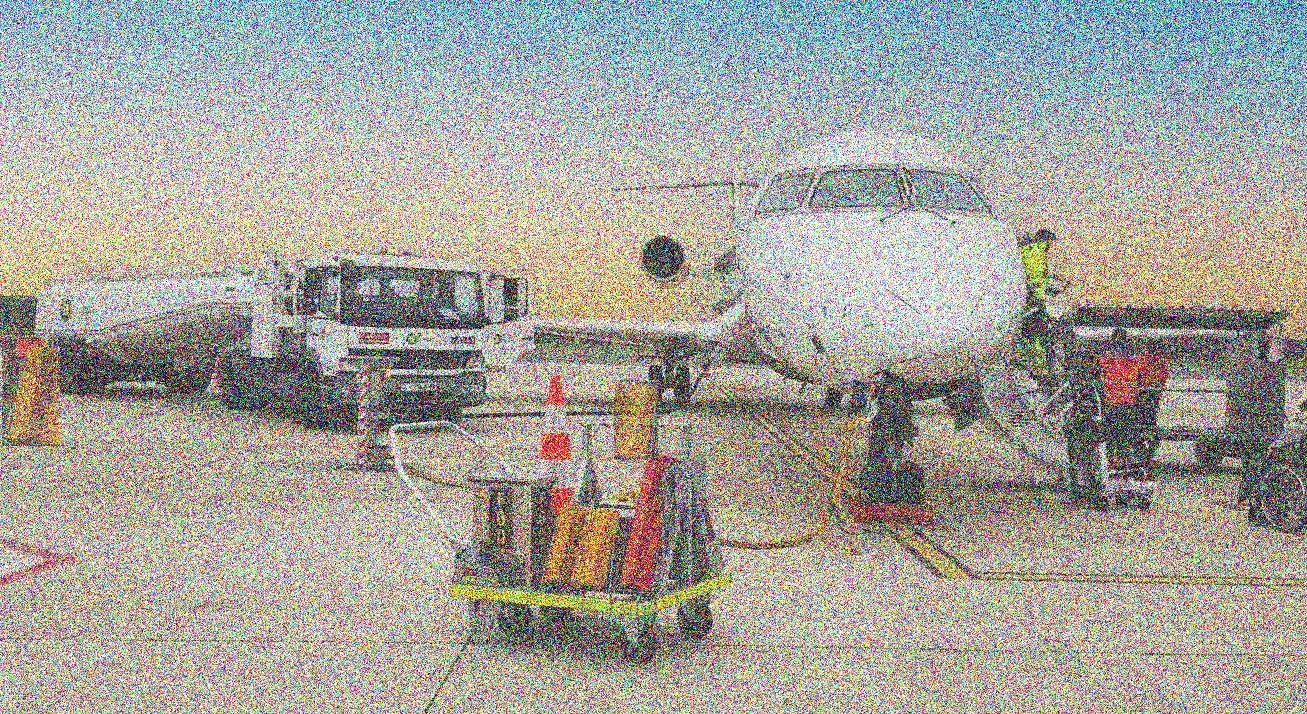chock: (619, 451, 680, 593), (2, 339, 60, 446), (540, 501, 587, 586), (571, 504, 618, 588), (614, 380, 658, 460)
wheel: (296, 366, 346, 429), (54, 344, 104, 396), (221, 355, 255, 408), (159, 360, 214, 392), (894, 460, 928, 506), (860, 458, 890, 505), (409, 405, 463, 430), (1193, 440, 1226, 467)
